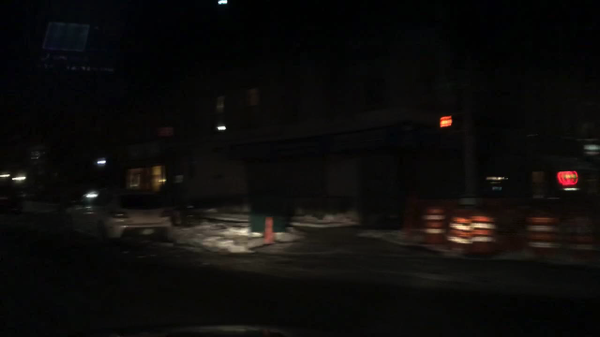car: (478, 133, 599, 202), (63, 185, 176, 247), (0, 177, 25, 217)
traffic sign: (43, 21, 89, 53)
